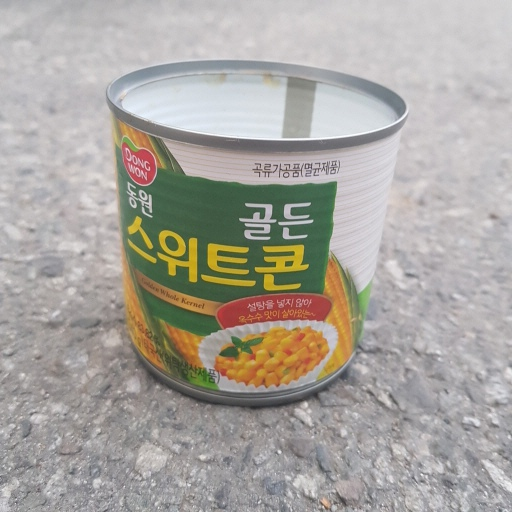Metal_1: (105, 52, 410, 405)
